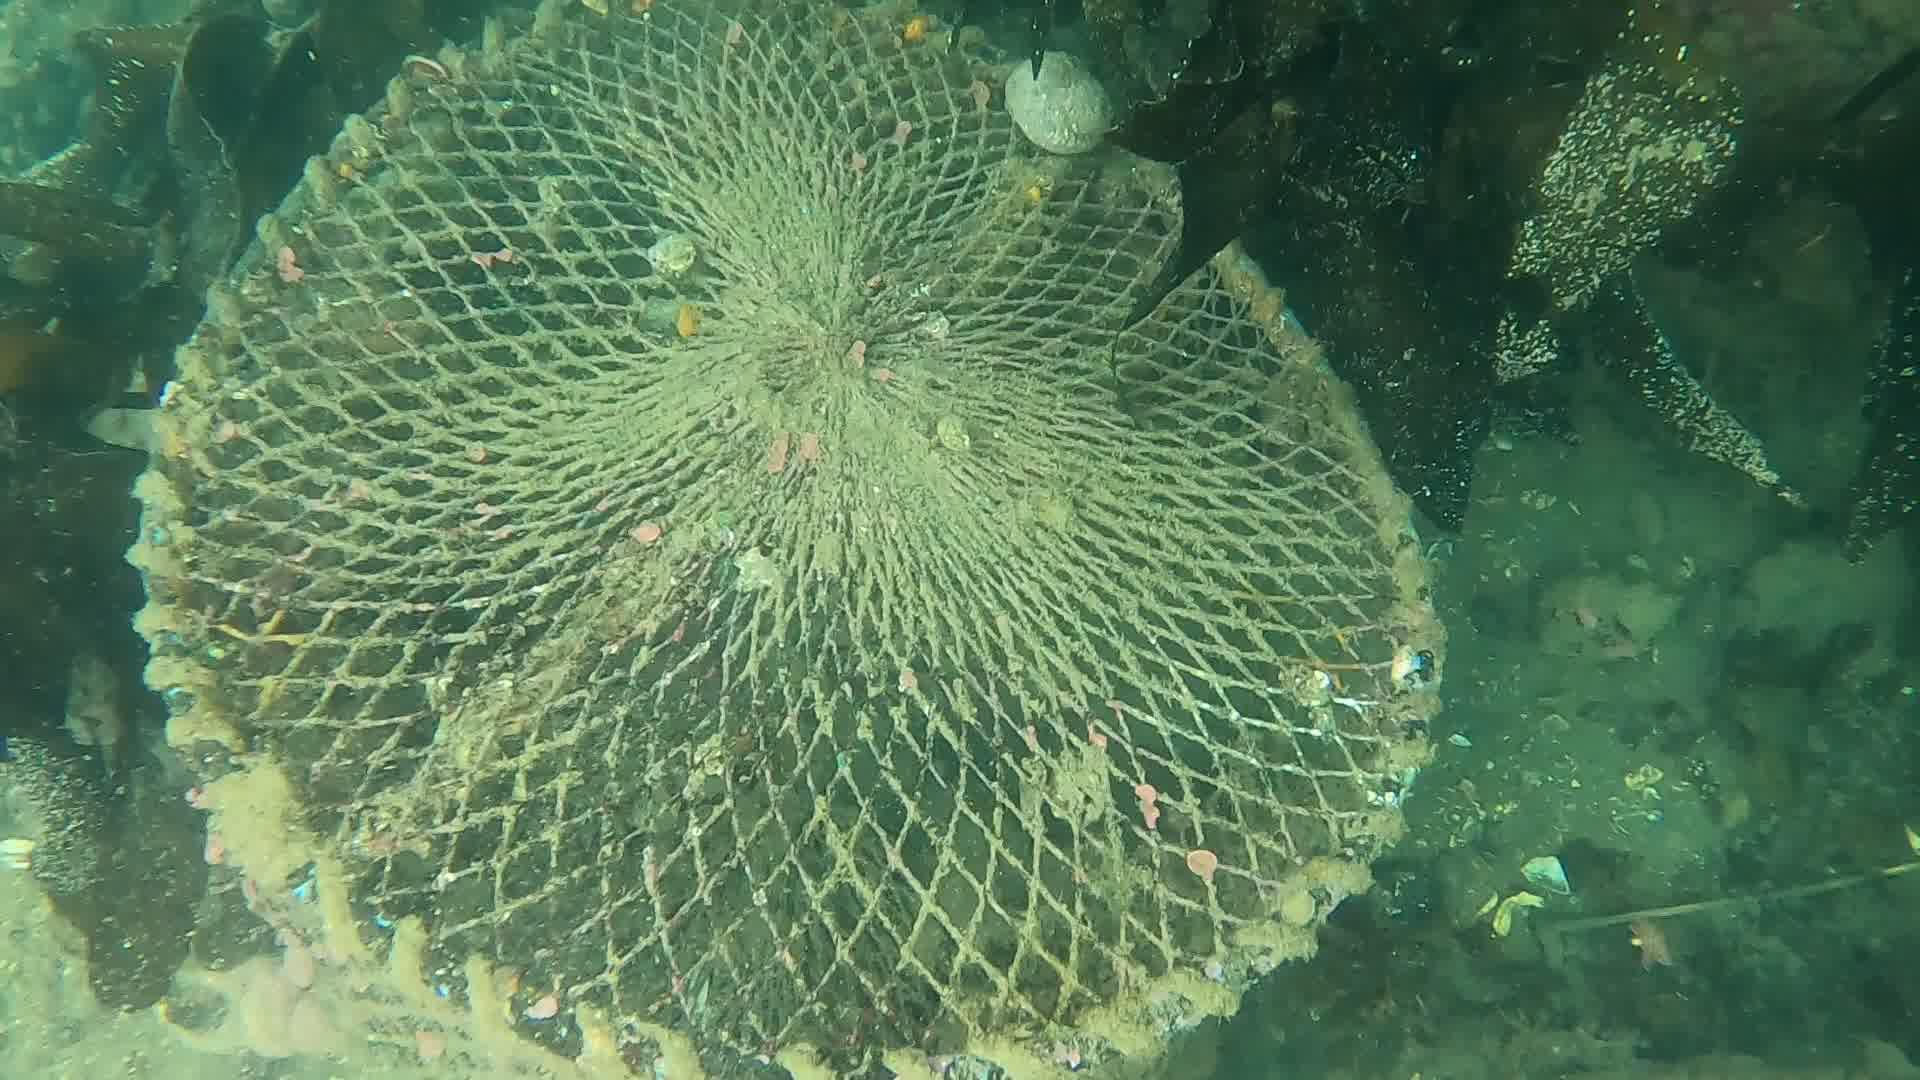circular fish trap: (131, 0, 1448, 1080)
